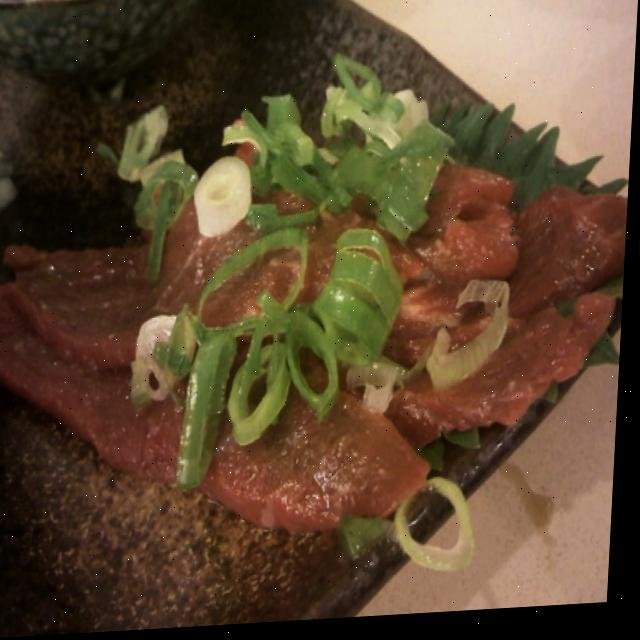刺身生食: (0, 39, 637, 595)
